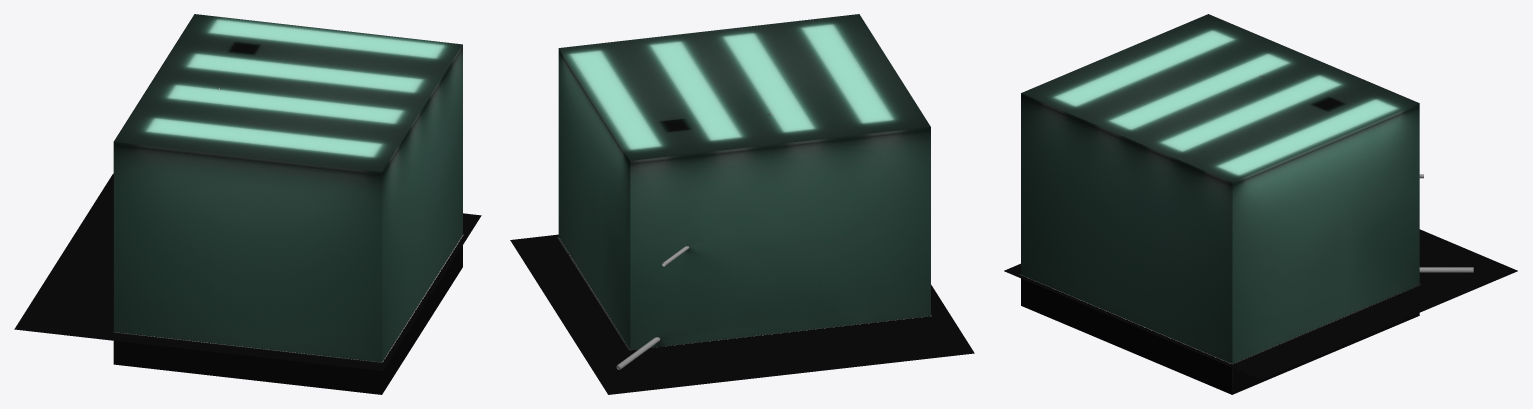
Rendered from pumpmodel06.glb.
3 views of the same model, side by side, from view 1: azimuth 30°, elevation 25°; view 2: azimuth 150°, elevation 25°; view 3: azimuth 270°, elevation 25° (orthographic). The views are drawn at different scales.
Parts seen in each view (by area): view 1: Cube.015, Plane; view 2: Cube.015, Plane; view 3: Cube.015, Plane.
Boxes of the visible parts, x1,y1,x2,y2 form: Cube.015: (113, 14, 462, 394); Plane: (14, 173, 481, 371); Cube.015: (558, 14, 930, 349); Plane: (510, 234, 974, 394); Cube.015: (1021, 14, 1419, 394); Plane: (1004, 229, 1517, 379).
Size of the model in its own units: 7.57 by 3.46 by 7.57.
9 materials, 2 textured.
